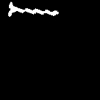half_double_crochet: (8, 2, 57, 15)
